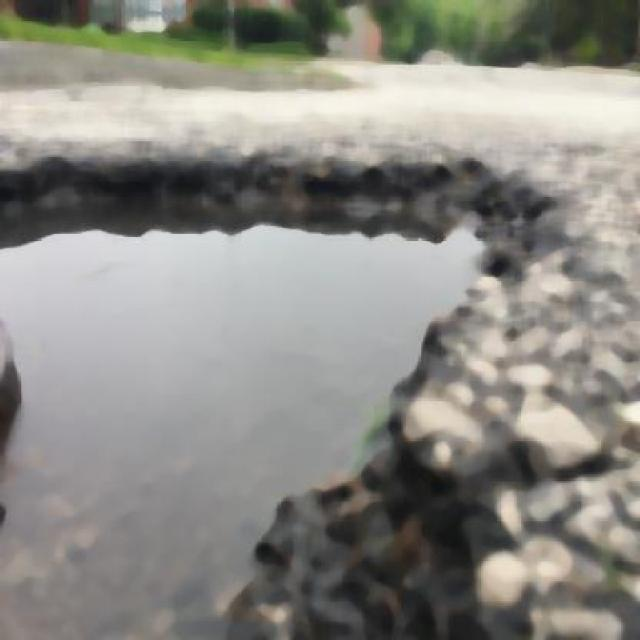Pothole: (0, 129, 584, 640)
